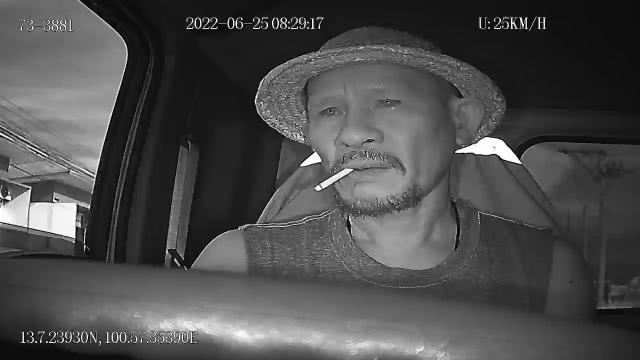SafeDriving: (368, 88, 410, 115), (314, 96, 348, 122)
Smoking: (316, 166, 354, 190)
